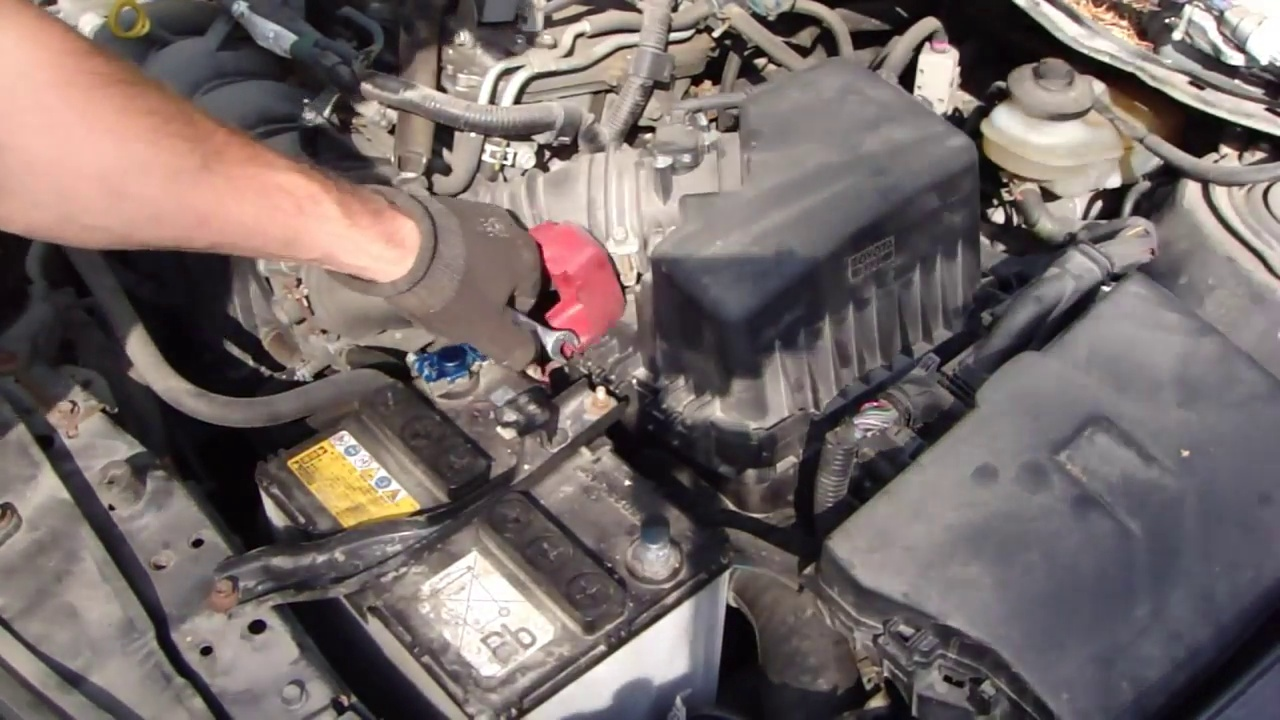battery: (253, 312, 723, 681)
neg_disconnected: (608, 516, 705, 597)
pos_touched: (391, 221, 629, 443)
